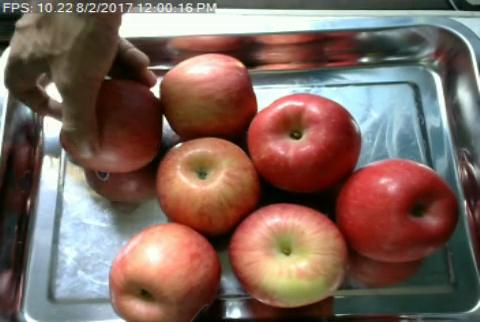apple: (339, 157, 460, 262), (229, 202, 344, 308), (109, 222, 222, 322), (247, 94, 361, 190), (155, 136, 257, 230), (62, 81, 152, 172), (160, 53, 255, 136)
